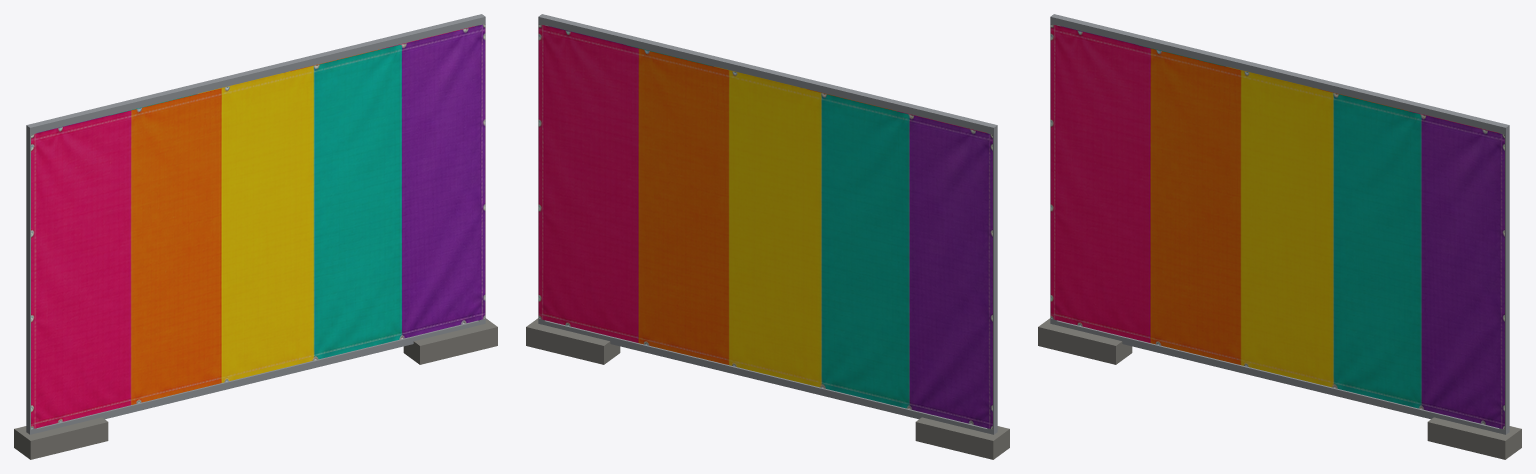
Rendered from fest_fence_panel.glb.
3 views of the same model, side by side, from view 1: azimuth 30°, elevation 25°; view 2: azimuth 150°, elevation 25°; view 3: azimuth 330°, elevation 25° (orthographic).
Visible parts, largest first — view 1: kp_fence_panel; view 2: kp_fence_panel; view 3: kp_fence_panel.
Part boxes in pixels (<box>): kp_fence_panel: <box>14,14,497,459</box>; kp_fence_panel: <box>526,14,1009,459</box>; kp_fence_panel: <box>1038,14,1521,459</box>.
Bounding box in the file's own units: 3.6 × 2.4 × 0.22.
2 materials, 2 textured.
